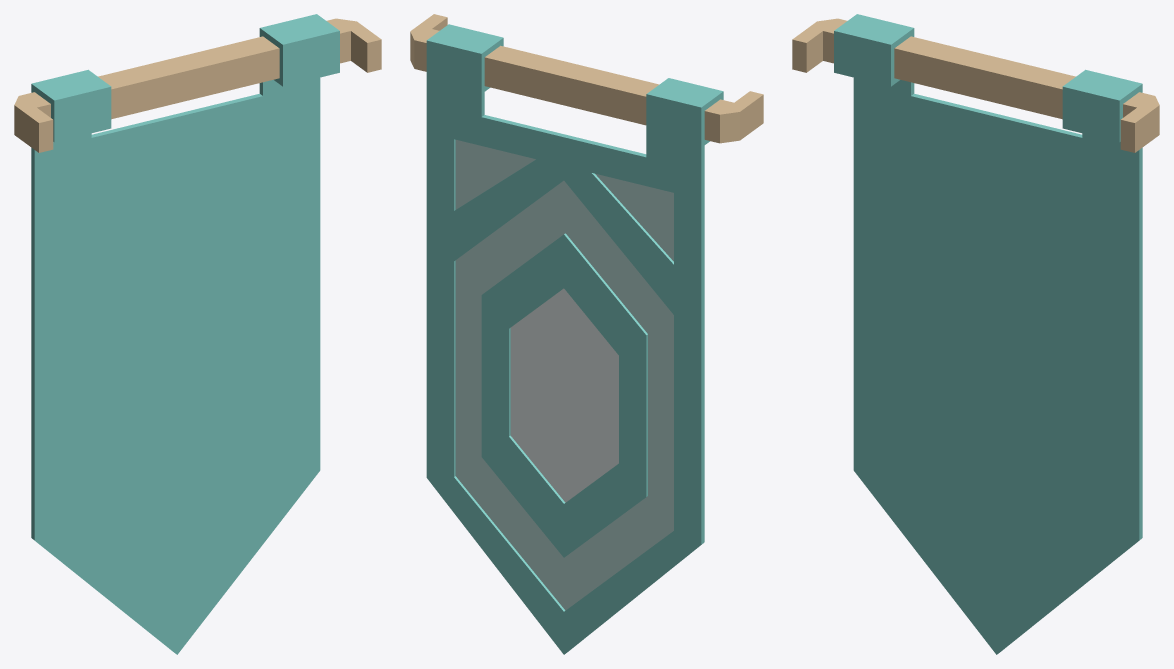
File: prop_flag_1.glb
3 views of the same model, side by side, from view 1: azimuth 30°, elevation 25°; view 2: azimuth 150°, elevation 25°; view 3: azimuth 330°, elevation 25° (orthographic). The views are drawn at different scales.
Parts seen in each view (by area): view 1: object2, object1.002; view 2: object2, object1.002; view 3: object2, object1.002.
Part boxes in pixels (x1,y1,x2,y2): object2: (31,14,339,654); object1.002: (14,18,381,152); object2: (426,24,723,654); object1.002: (410,14,763,143); object2: (834,14,1142,654); object1.002: (792,18,1159,152).
Bounding box in the file's own units: 0.54 × 0.909 × 0.099.
